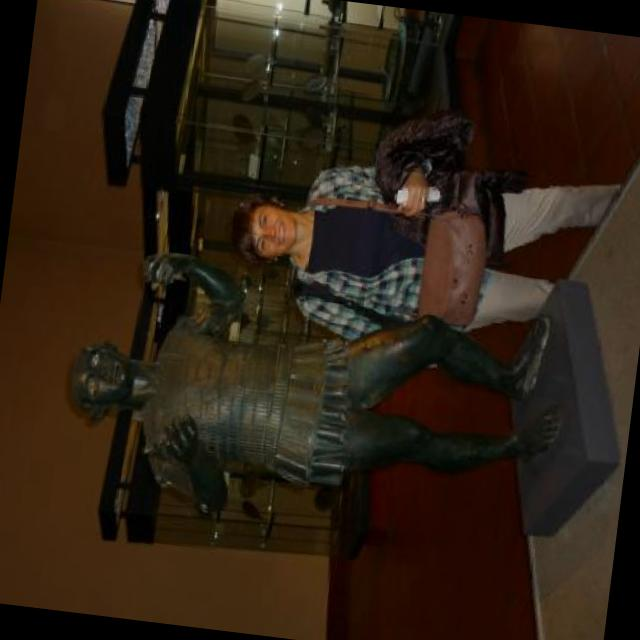Person: (220, 132, 620, 390)
